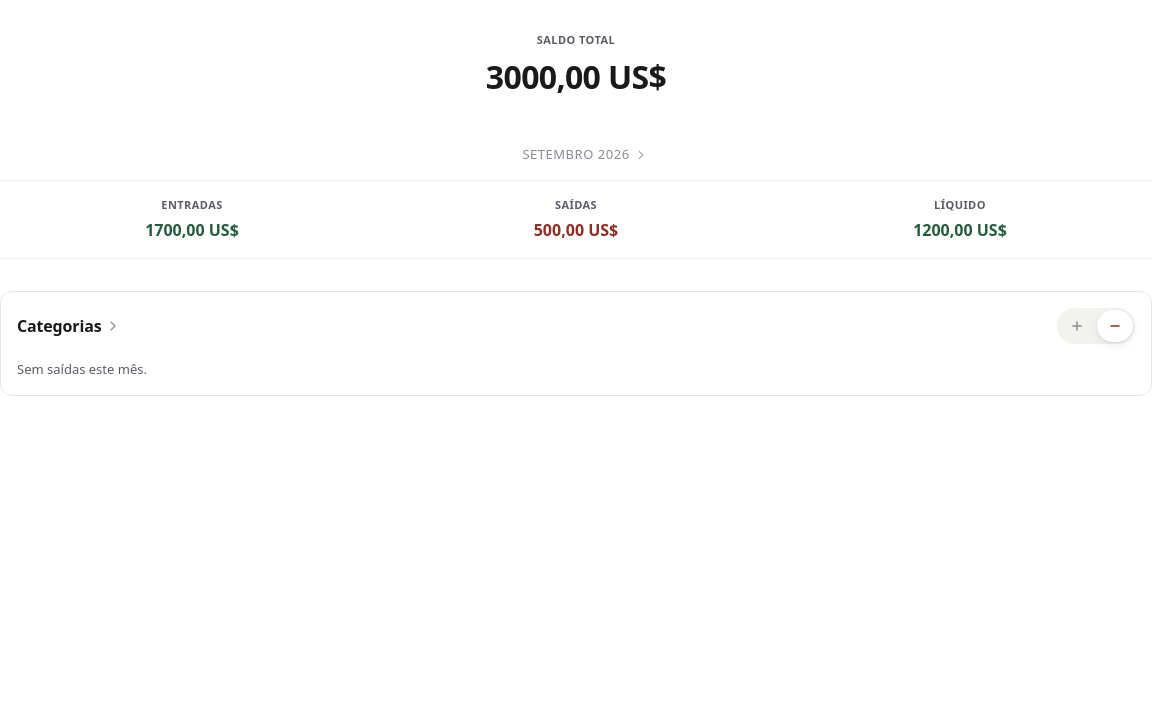
Scenario: Início › filtro de período › o campo de mês abre já preenchido com o mês em curso
This screenshot has width=1152, height=720.
What coordinates should you click on to do the following:
click the button "Setembro 2026"
I would click on:
 (576, 155)
Its box is x1=488 y1=137 x2=664 y2=172.
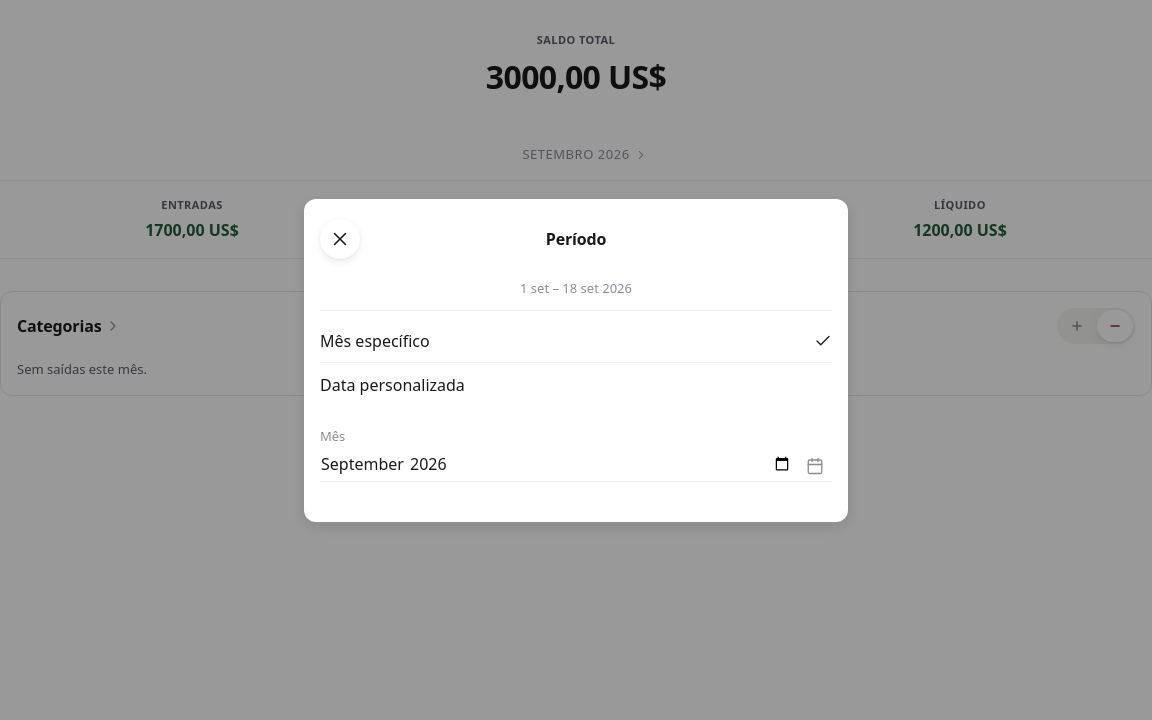
Expected: the field labelled "Mês" holds "2026-09", x1=320 y1=450 x2=832 y2=482
